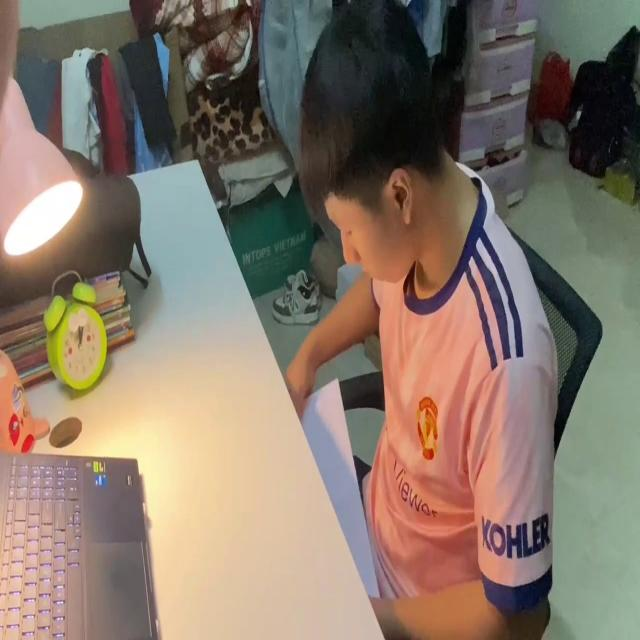book: (299, 374, 381, 612)
laptop: (0, 443, 160, 640)
student: (279, 0, 561, 640)
